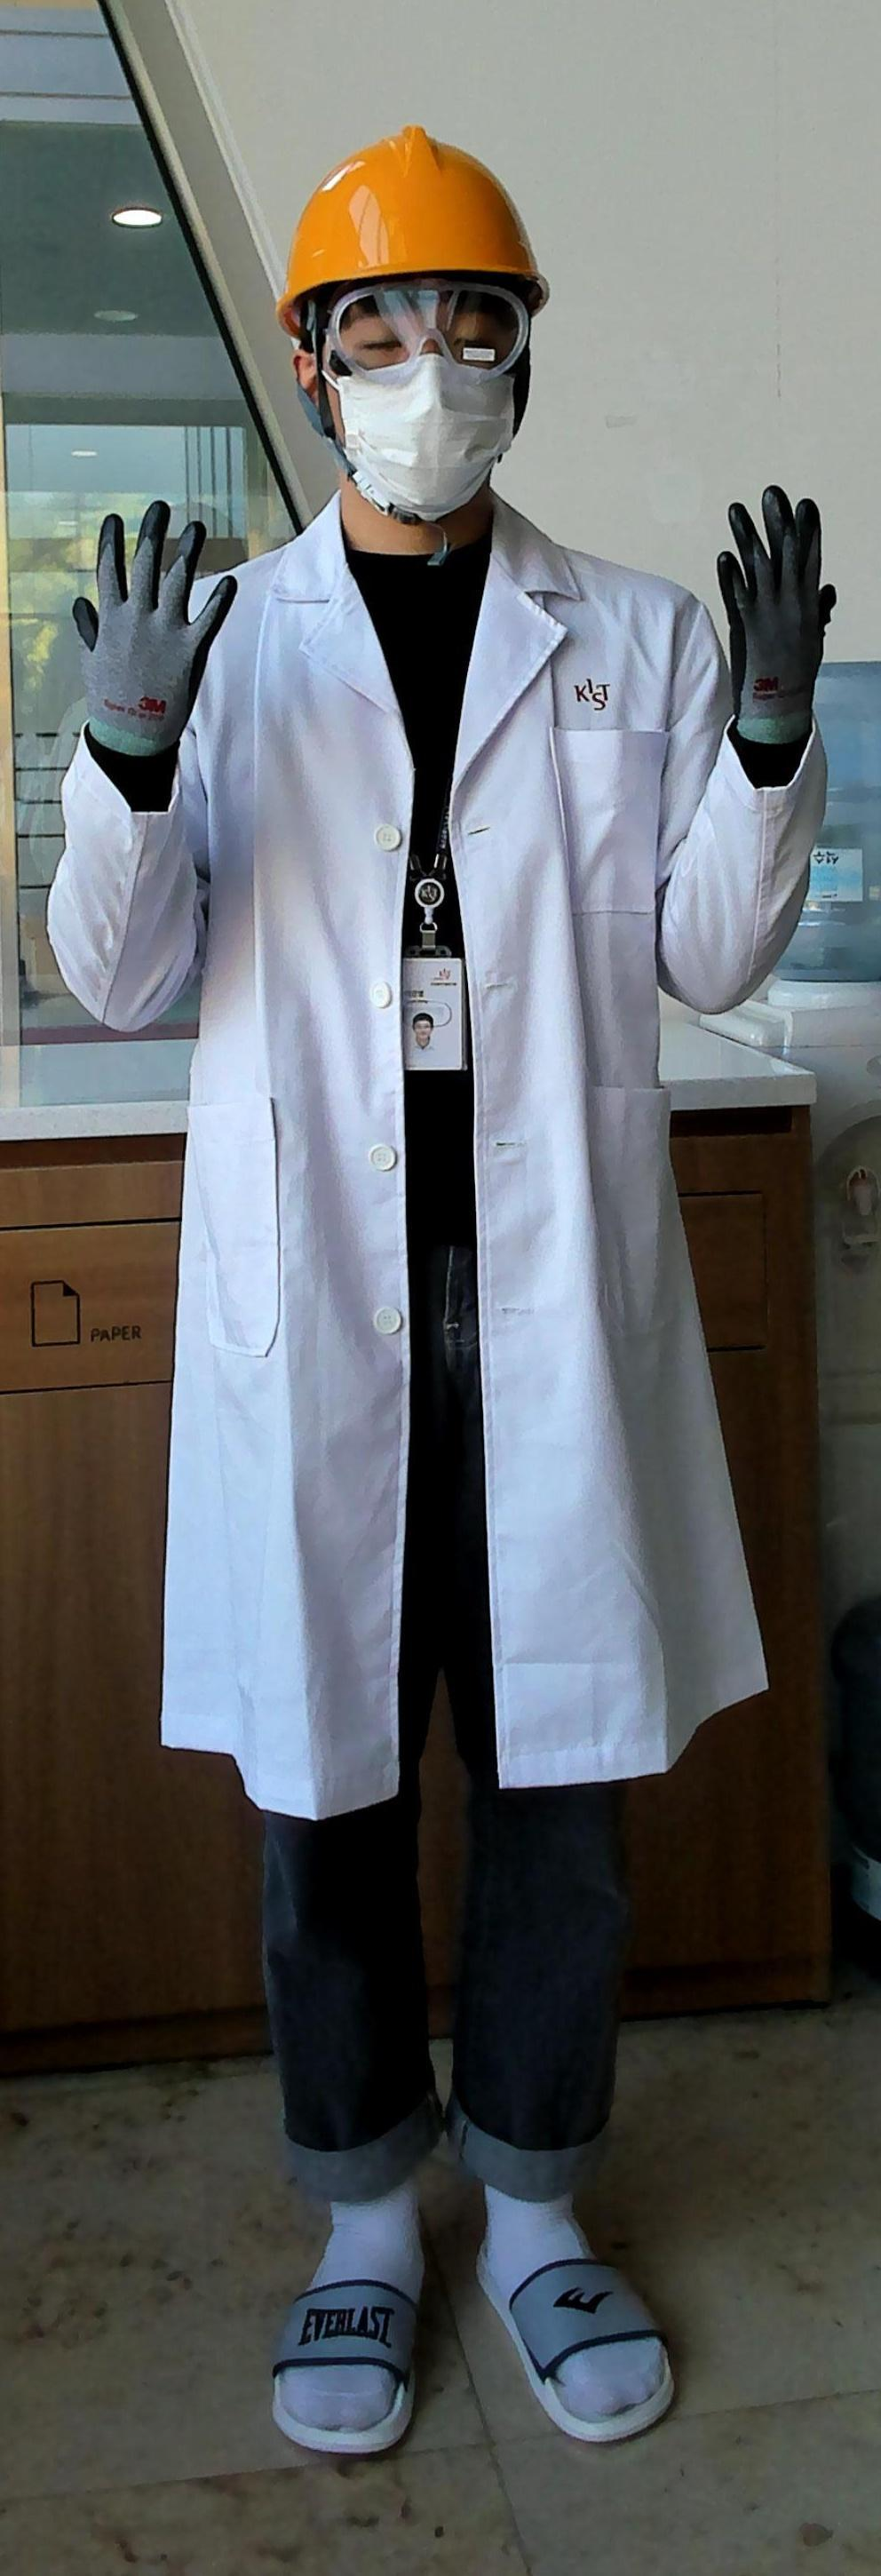lab_coat: (240, 573, 708, 1743)
